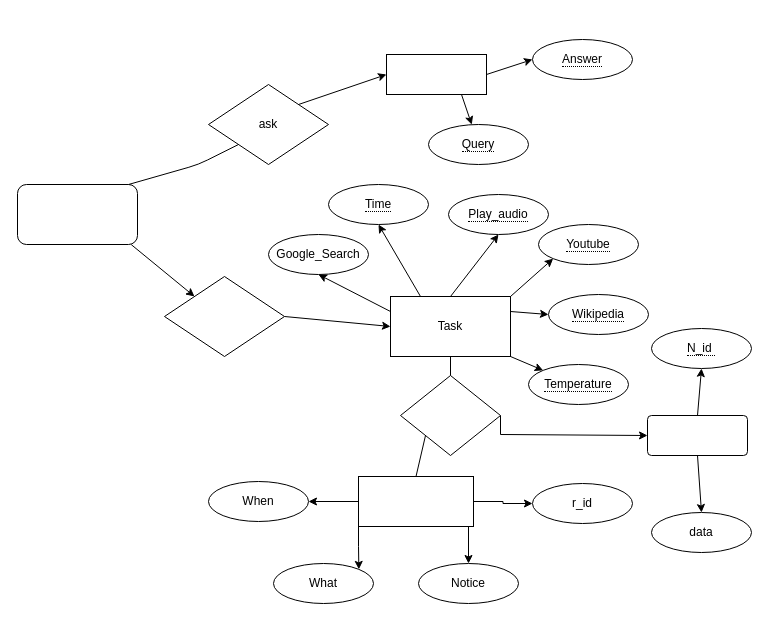
Some shapes in this 769 by 621 pixel diagram are drawn without their labels. The centre of each missing label's shape, as x and y in pixels:
"CanBe" belongs at point (450, 415).
"Has" belongs at point (224, 316).
"Note" belongs at point (697, 435).
"Question" belongs at point (436, 74).
"Reminder" belongs at point (416, 501).
"User" belongs at point (77, 214).
